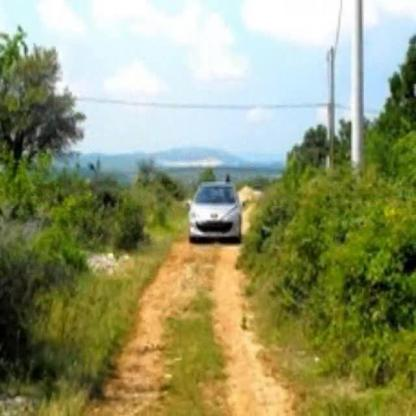other: (223, 174, 262, 278)
